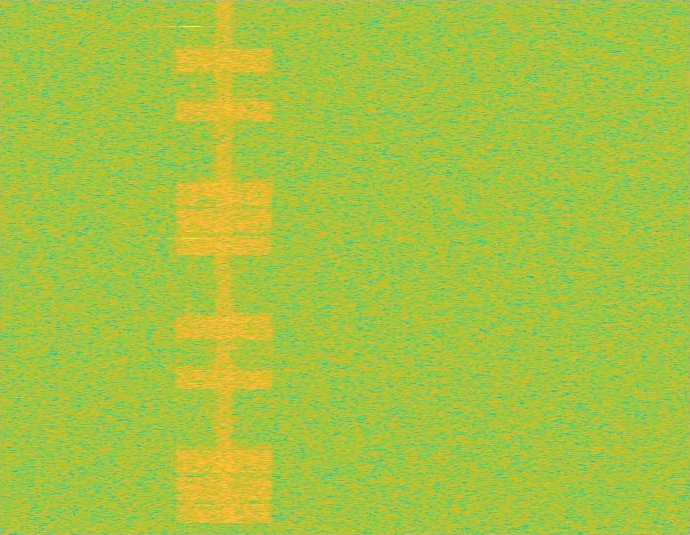DSSS: (212, 0, 236, 534)
LTE: (172, 0, 276, 534)
Radar: (185, 0, 199, 534)
